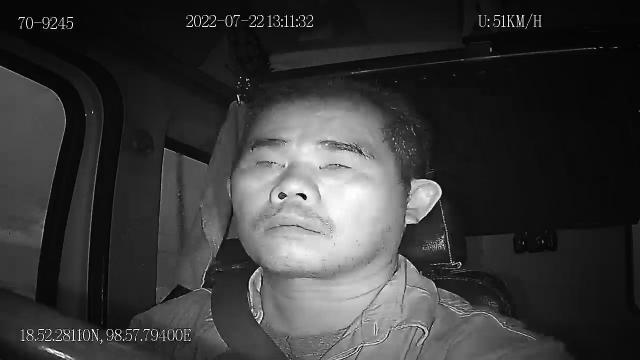SafeDriving: (310, 146, 365, 182), (246, 144, 292, 178)
Seatbelt: (208, 272, 292, 360)
